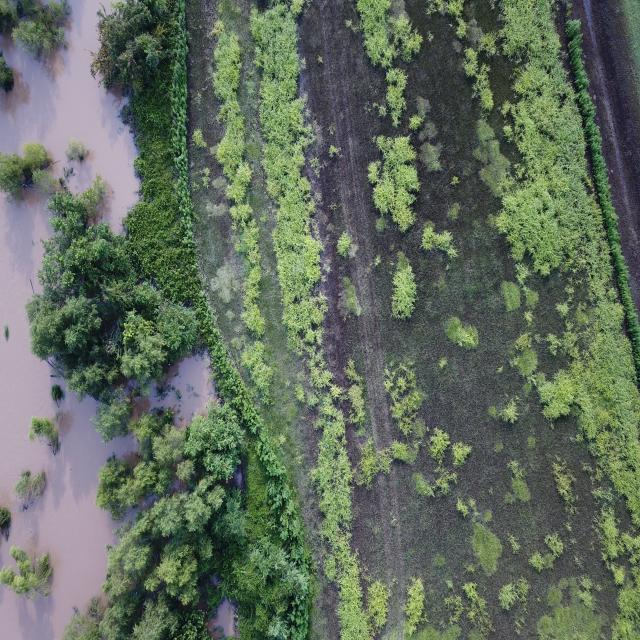fire: (0, 187, 134, 640), (0, 0, 138, 232), (146, 355, 214, 425)
